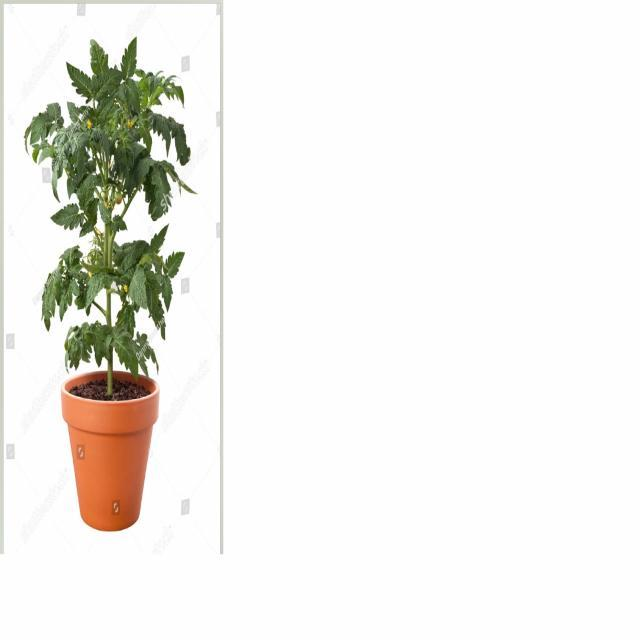tomato: (19, 37, 193, 399)
